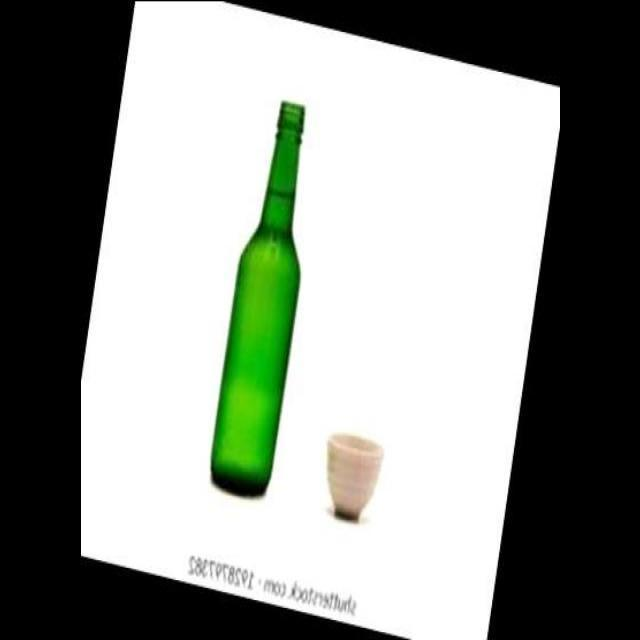Glass: (204, 89, 314, 511)
